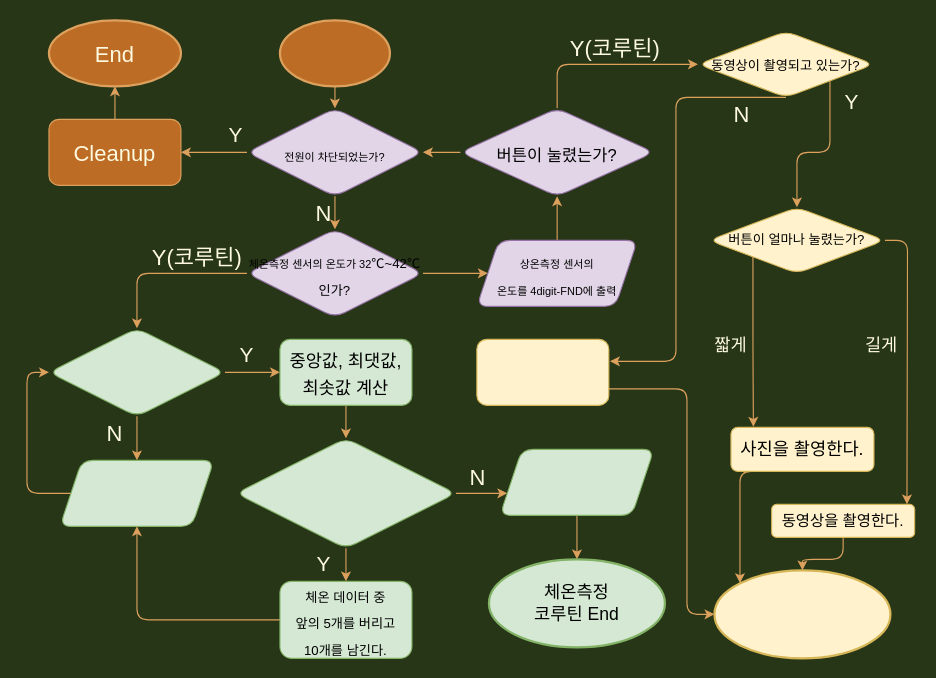
Some shapes in this 936 by 678 pixel diagram are drawn without their labels. The box of each missing label's shape, as (x1, y1, x2, y2) in pixels:
Start: (278, 19, 391, 87)
동영상 촬영을 중단한다.: (476, 338, 609, 405)
쌓인 체온 데이터가 15개 이상인가?: (48, 327, 225, 416)
중앙값을 7segment에 출력: (499, 448, 654, 515)
체온을 1초당 5번 입력 받는다.: (59, 459, 214, 526)
최댓값이나 최솟값이 중앙값과 1℃ 이상 차이나는가?: (235, 437, 456, 548)
카메라 코루틴 End: (713, 569, 891, 659)
